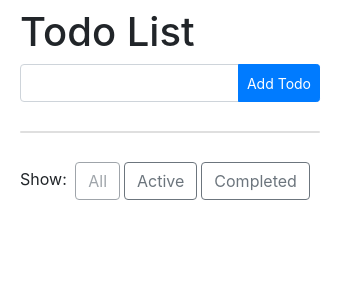
Test: let create tasks
The width and height of the screenshot is (337, 281).
Type "buy milk" into the field at coordinates (130, 83), box [20,64,239,102]
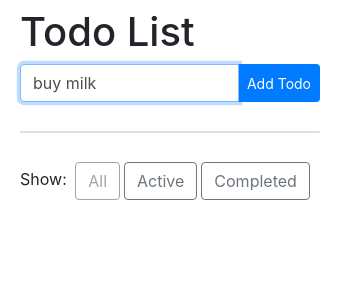
Submit the form with class "create-form", box [20,64,320,102]
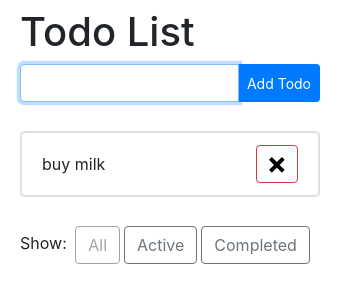
Result: the number of elements with class "list-group-item" is 1 at [21,132,319,196]
Result: the element with class "list-group-item" reads "buy milk" at [21,132,319,196]
